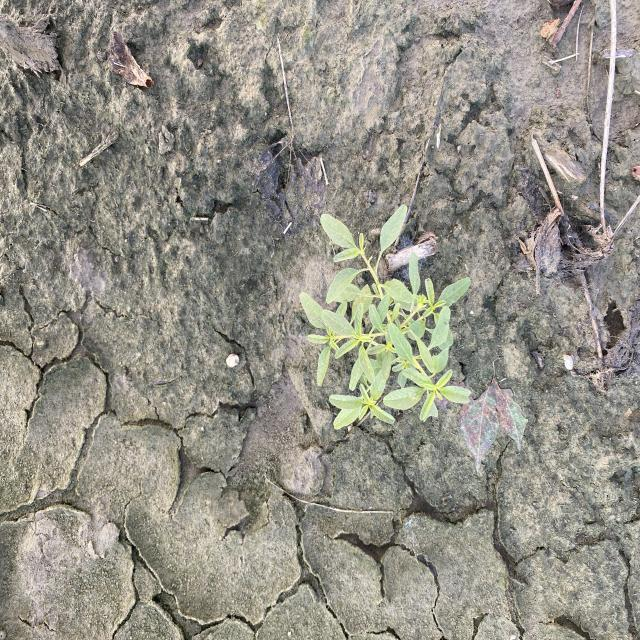Waterhemp: (298, 204, 472, 430)
